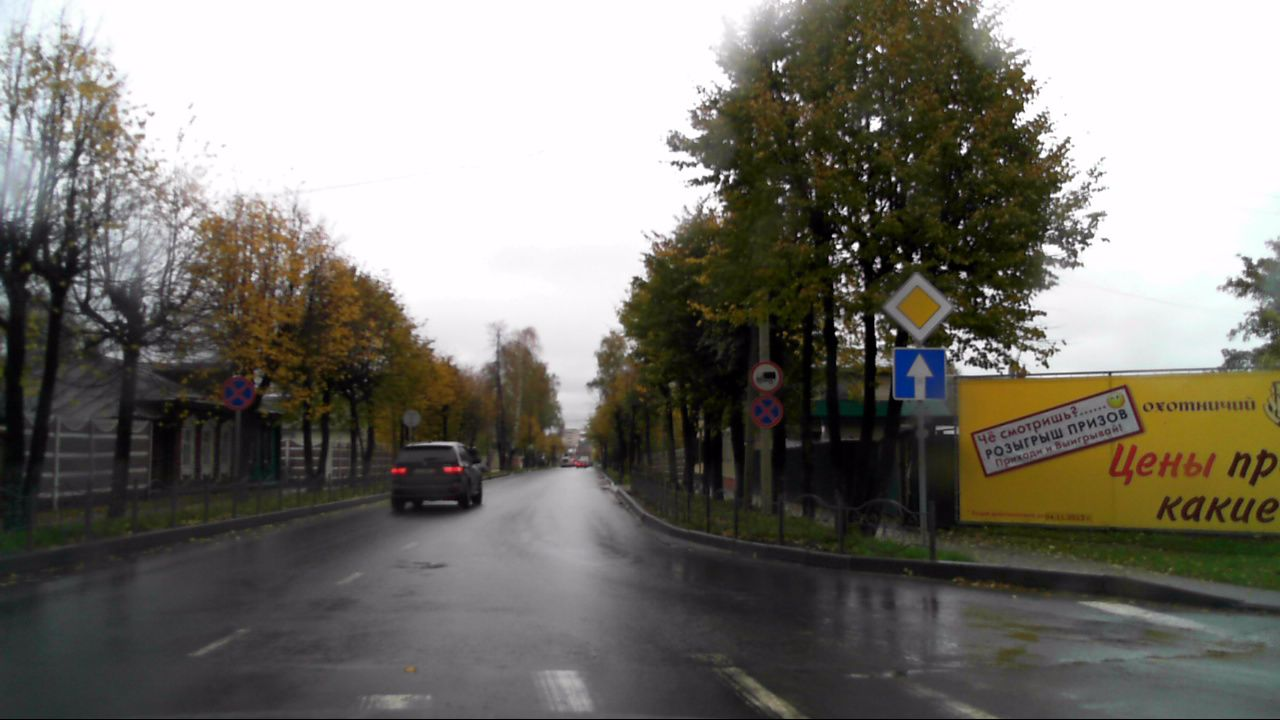No Parking: (221, 376, 254, 410)
